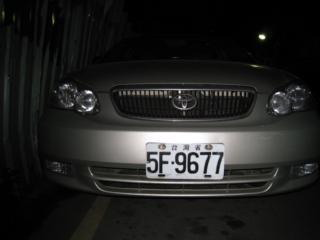plate: (144, 140, 226, 180)
